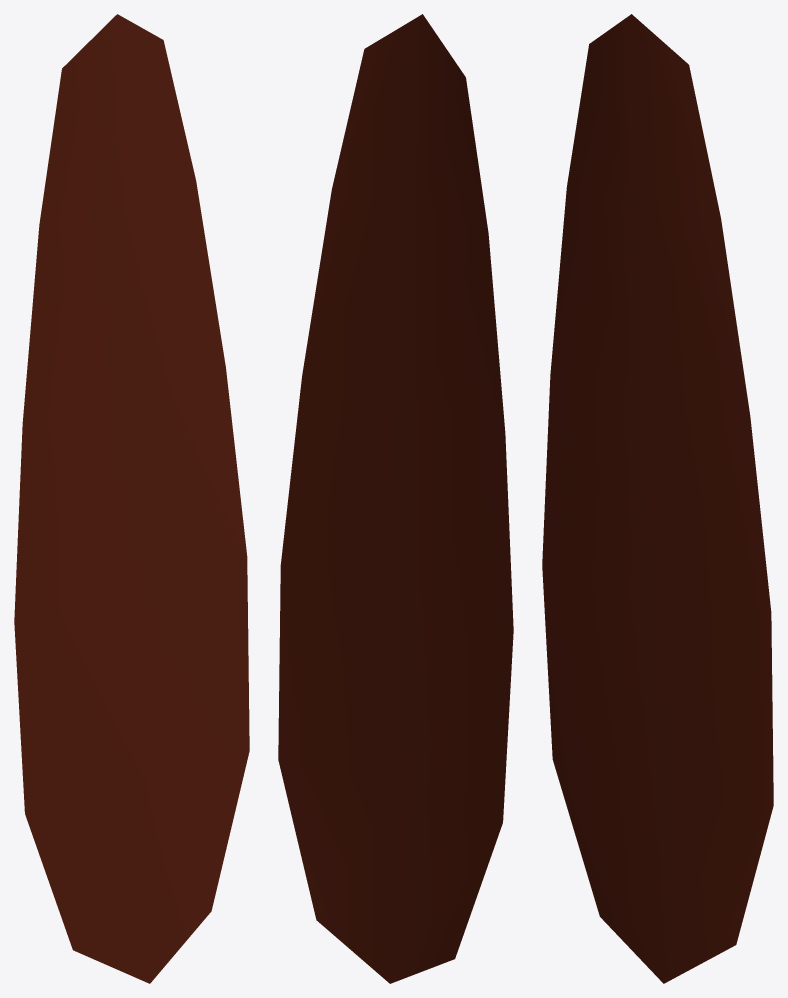
Rendered from finch_feather_flight_tertiary_005.obj.
3 views of the same model, side by side, from view 1: azimuth 30°, elevation 25°; view 2: azimuth 150°, elevation 25°; view 3: azimuth 330°, elevation 25° (orthographic).
Visible parts, largest first — view 1: feather_flight_tertiary_005; view 2: feather_flight_tertiary_005; view 3: feather_flight_tertiary_005.
Part boxes in pixels (x1,y1,x2,y2): feather_flight_tertiary_005: [14, 14, 249, 983]; feather_flight_tertiary_005: [278, 14, 513, 983]; feather_flight_tertiary_005: [542, 14, 773, 983].
Bounding box in the file's own units: 0.00341 × 0.0135 × 0.000152.
